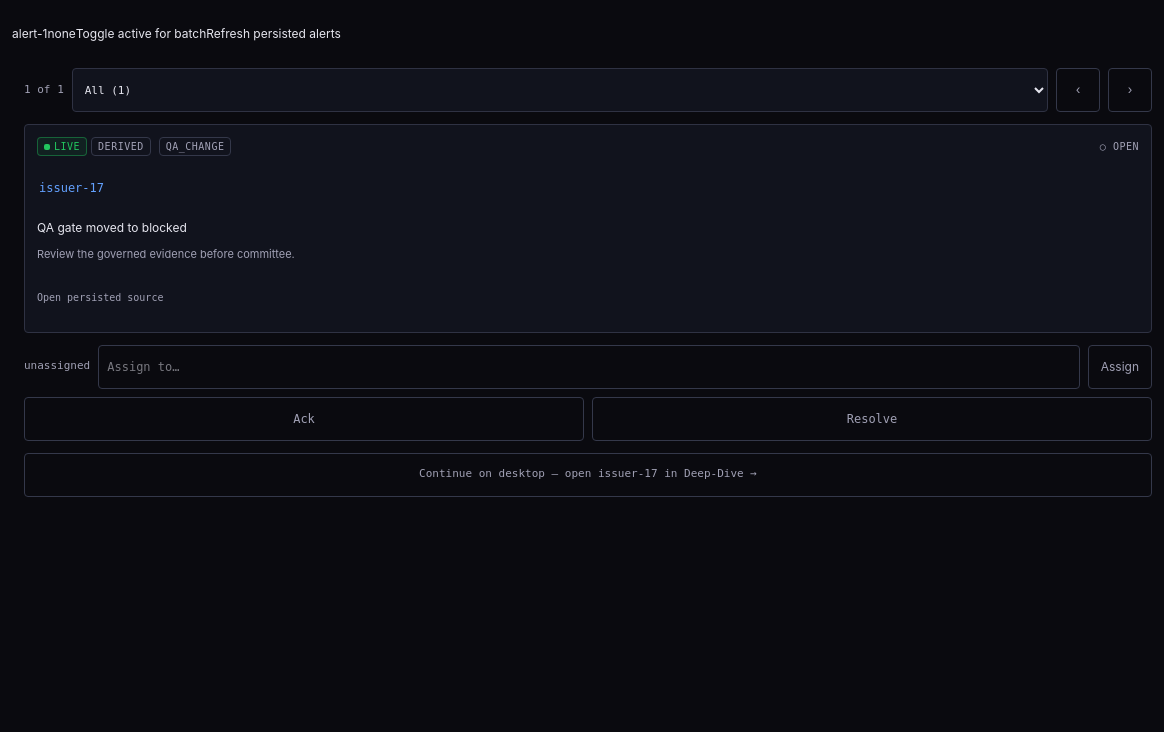
Test case: PhoneTriage · persisted controller › acknowledges, assigns, and resolves through the persisted event endpoint with phone-sized targets
Expected: the heading "QA gate moved to blocked" is shown, [37,220,187,235]
In the field named "Alert assignee": (589, 367) [98,345,1080,389], type "Sam"
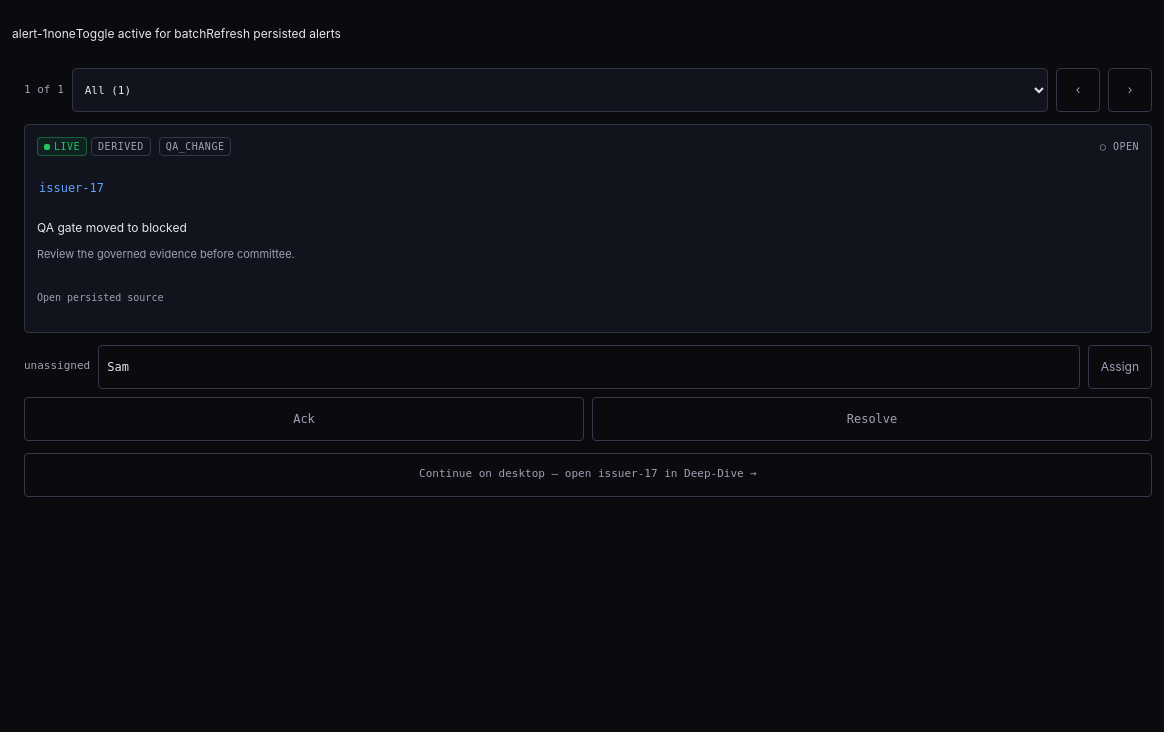
Click the button "Assign": (1120, 367) [1088,345,1152,389]
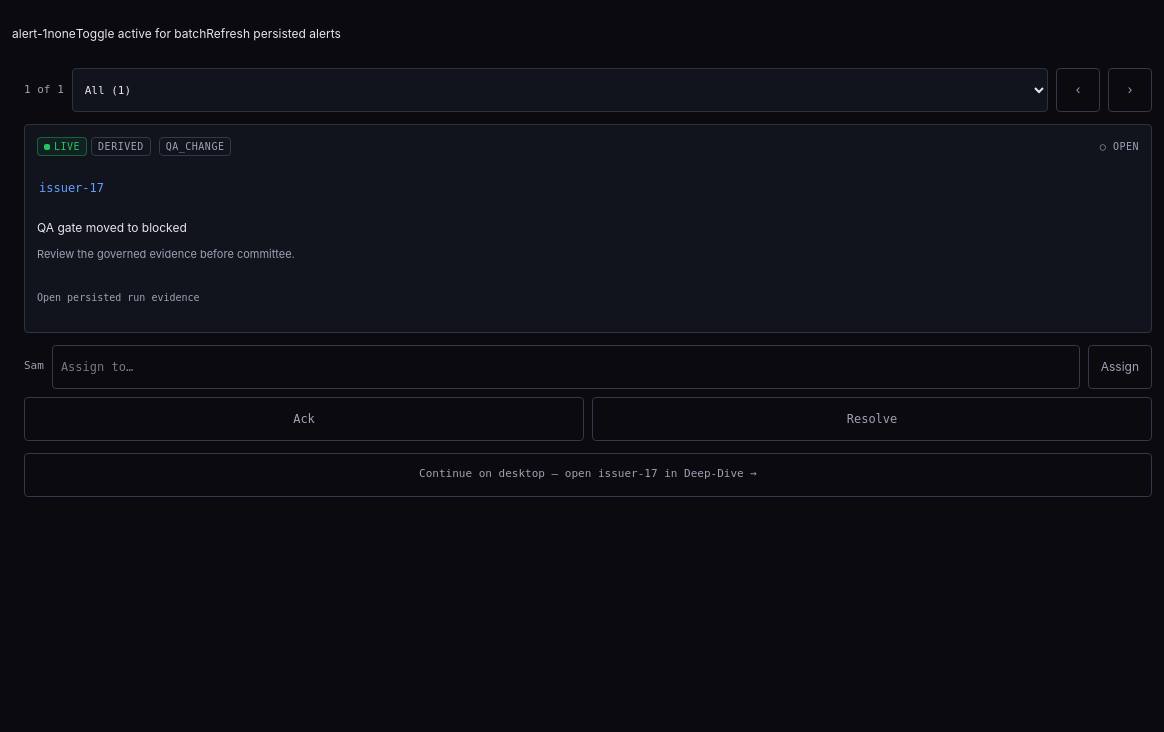
Now the text "Sam" is shown, box [24,358,44,375]
Click the button "Ack": (304, 419) [24,397,584,441]
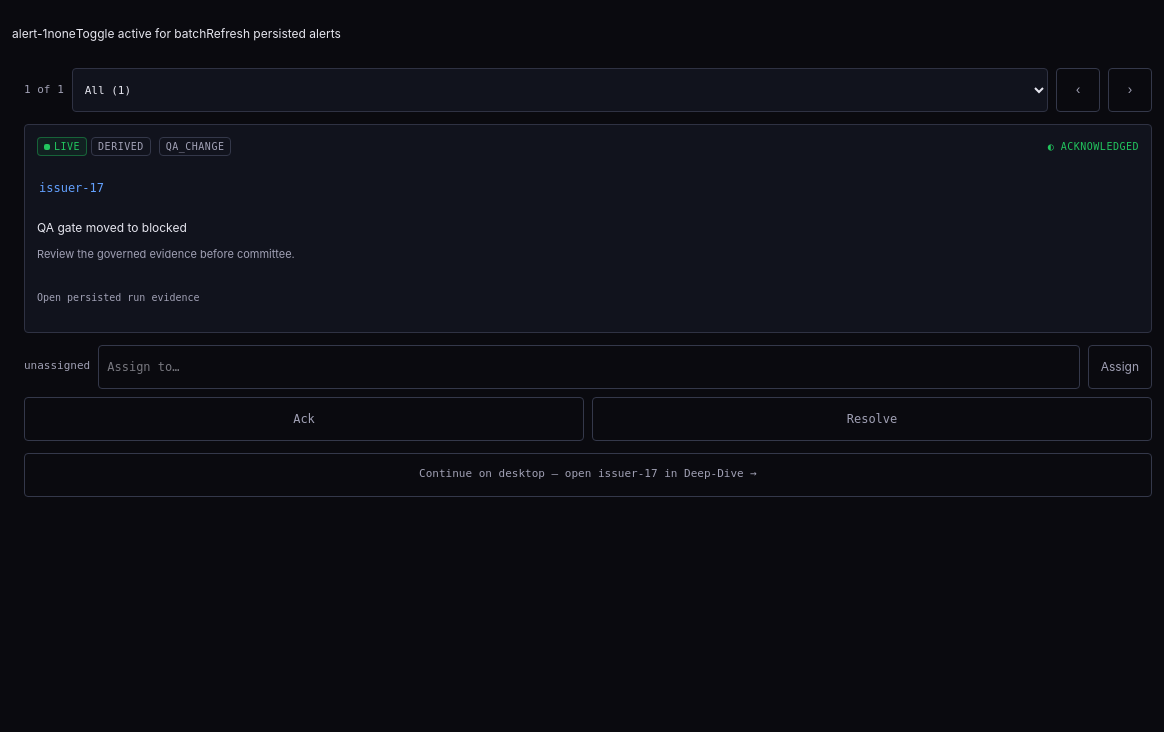
Now the text "Acknowledged" is shown, box [1061,141,1139,152]
Click the button "Resolve": (872, 419) [592,397,1152,441]
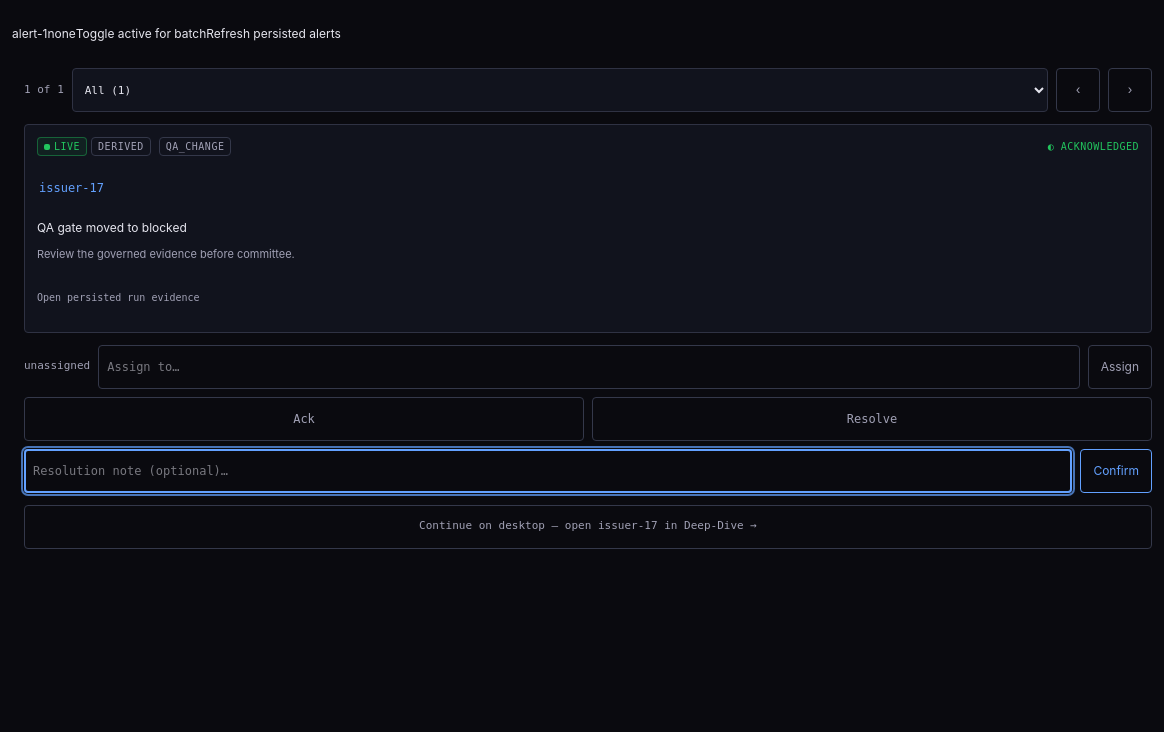
In the field named "Alert resolution note": (548, 471) [24,449,1072,493], type "Reviewed."
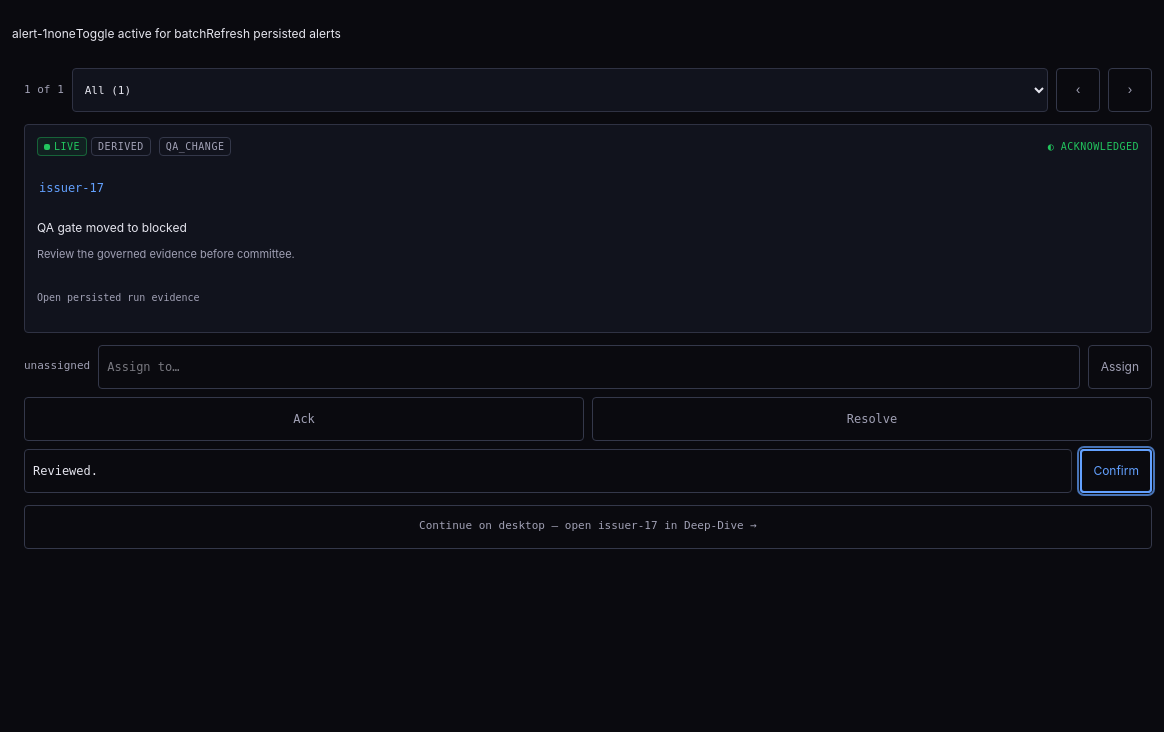
Click the button "Confirm": (1116, 471) [1080,449,1152,493]
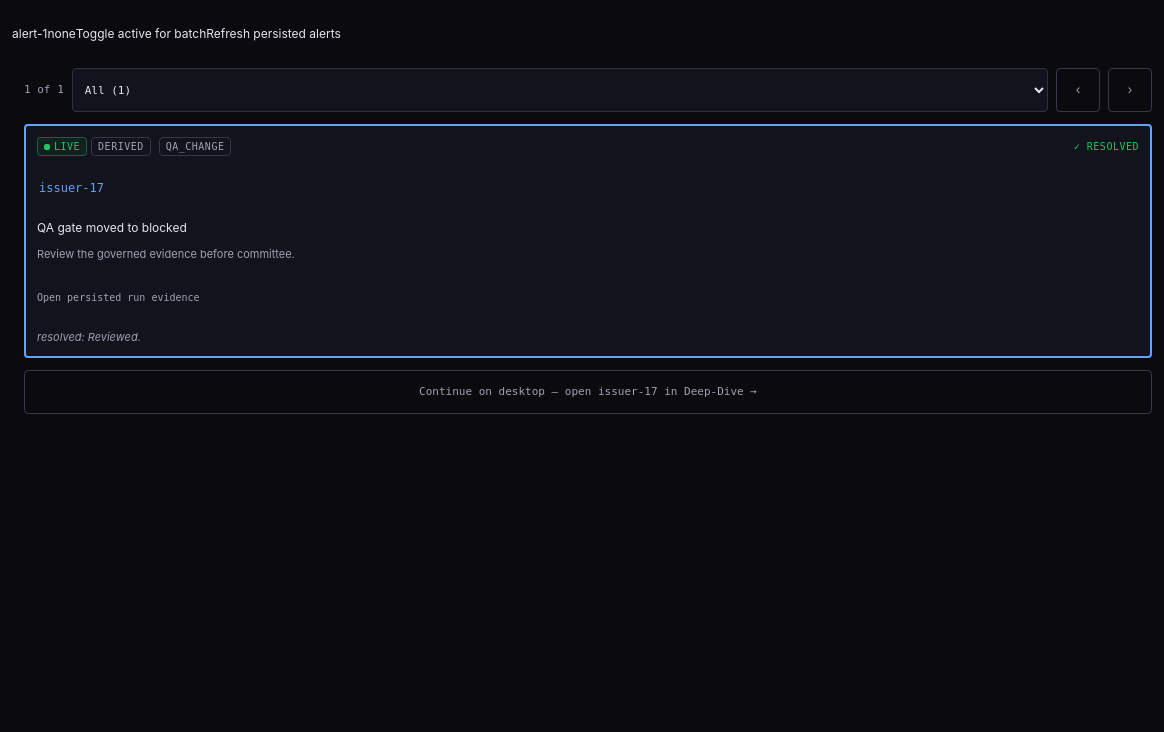
Now the text "Resolved" is shown, box [1087,141,1139,152]
